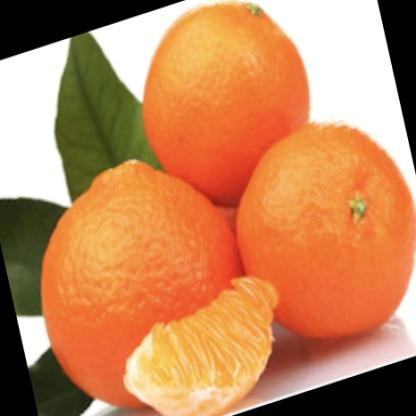fresh: (43, 6, 415, 414)
